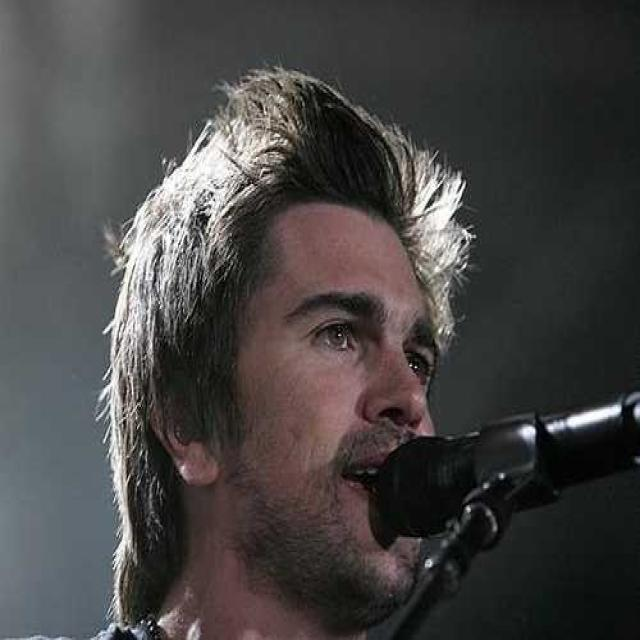microphone: (365, 381, 637, 542)
